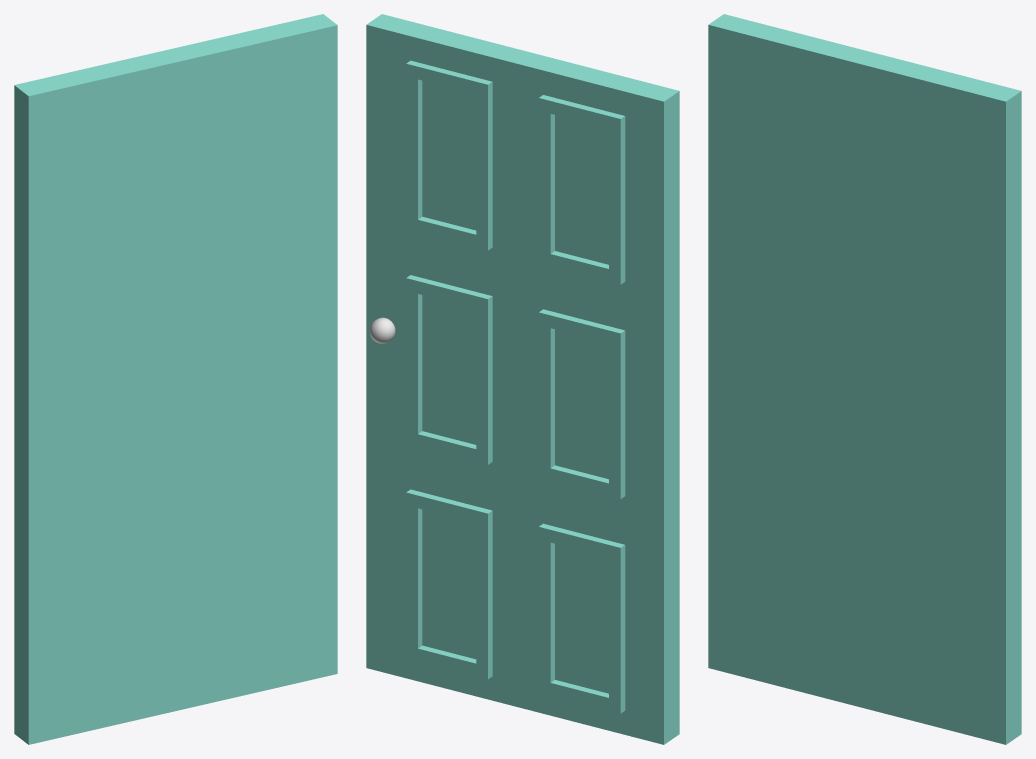
Rendered from porte.fbx.
3 renders of one model, left to right at view 1: azimuth 30°, elevation 25°; view 2: azimuth 150°, elevation 25°; view 3: azimuth 330°, elevation 25°, orthographic.
Visible parts, largest first — view 1: Porte_entrée; view 2: Porte_entrée; view 3: Porte_entrée.
Boxes of the visible parts, x1,y1,x2,y2 form: Porte_entrée: (14, 14, 337, 744); Porte_entrée: (366, 14, 679, 744); Porte_entrée: (708, 14, 1021, 744).
Bounding box in the file's own units: 118 × 240 × 16.96.
